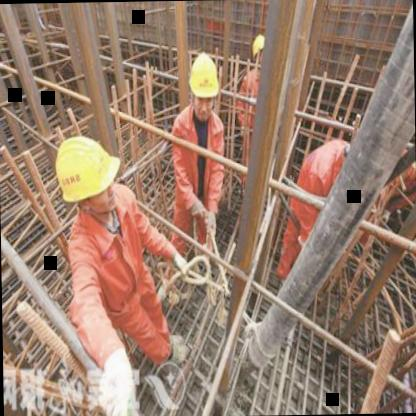helmet: (51, 130, 118, 217), (186, 48, 221, 124), (249, 31, 272, 68)
